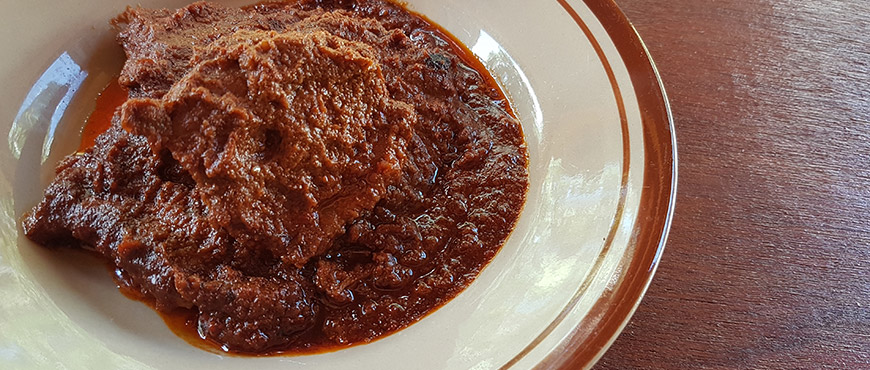rendang: (11, 9, 527, 369)
